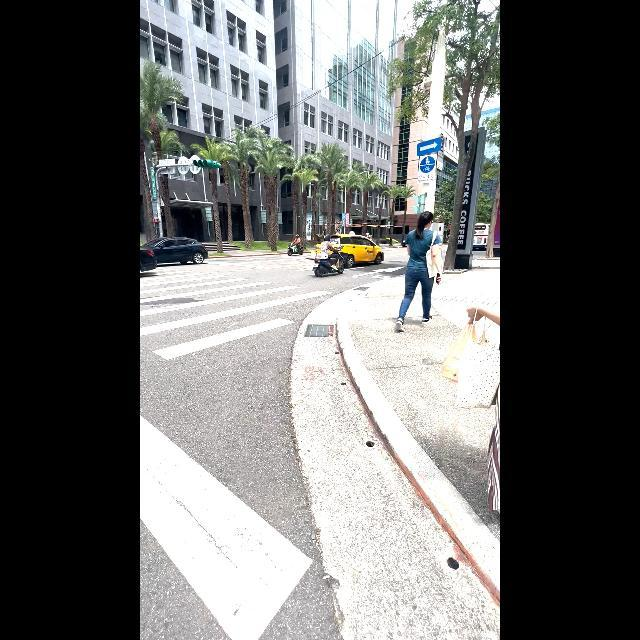sidewalk: (141, 415, 313, 639)
